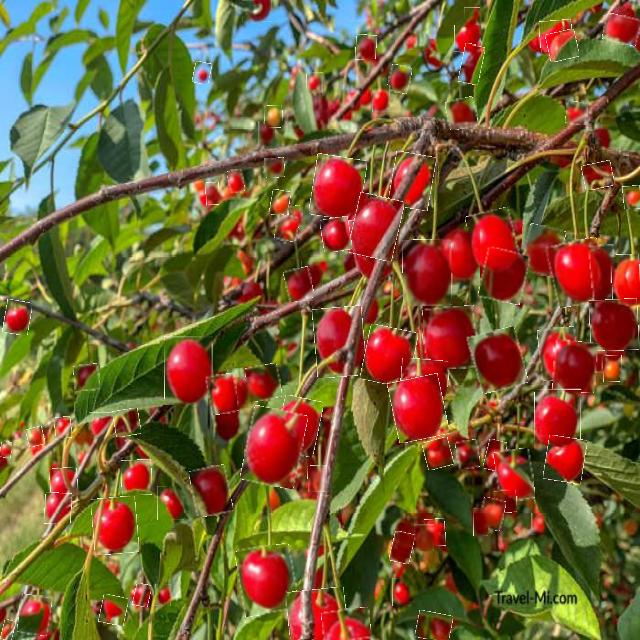cherry: (244, 408, 304, 487), (237, 546, 297, 616), (549, 239, 606, 306), (390, 376, 447, 441), (314, 306, 365, 377), (311, 155, 365, 220), (469, 209, 520, 277), (423, 306, 478, 369), (350, 194, 401, 259), (165, 336, 213, 405), (472, 329, 525, 391), (362, 326, 416, 386), (403, 240, 451, 306), (287, 588, 346, 640), (535, 389, 581, 450), (589, 298, 639, 351), (276, 397, 321, 455), (480, 249, 528, 303), (92, 498, 138, 554), (390, 152, 434, 210), (442, 227, 480, 285), (553, 342, 596, 392), (522, 225, 564, 276), (539, 327, 578, 380), (191, 465, 231, 516), (495, 449, 534, 501), (544, 436, 586, 483), (611, 254, 640, 311), (322, 608, 370, 640), (591, 244, 617, 300), (401, 359, 448, 387), (19, 595, 51, 635), (247, 365, 281, 401), (208, 374, 237, 414), (603, 15, 640, 45), (540, 19, 572, 52), (321, 217, 351, 252), (122, 460, 152, 495), (416, 611, 452, 640), (547, 30, 578, 61), (460, 45, 484, 85), (4, 300, 31, 335), (447, 98, 477, 129), (50, 468, 77, 502), (157, 486, 184, 520), (285, 268, 312, 301), (44, 493, 72, 524), (424, 439, 452, 469), (582, 162, 613, 189), (100, 595, 127, 625), (480, 498, 504, 530), (390, 532, 414, 564), (454, 26, 481, 54), (113, 409, 140, 437), (484, 440, 506, 472), (74, 364, 100, 391), (456, 440, 479, 469), (242, 0, 272, 22), (388, 65, 411, 93), (301, 261, 323, 289), (232, 377, 252, 407), (275, 215, 298, 241), (424, 519, 446, 546), (596, 122, 616, 150), (89, 412, 113, 435), (414, 524, 434, 551), (392, 578, 411, 606), (372, 85, 390, 114), (494, 491, 517, 513), (566, 102, 588, 125), (270, 190, 290, 215), (356, 35, 376, 60), (603, 356, 622, 382), (308, 466, 327, 492), (622, 185, 640, 209), (473, 508, 488, 536), (258, 121, 275, 145), (464, 7, 480, 32), (265, 106, 283, 128), (228, 169, 244, 193), (264, 158, 284, 177), (54, 417, 72, 438), (193, 62, 211, 83), (133, 584, 150, 606), (27, 427, 45, 447), (591, 351, 607, 373), (155, 584, 171, 606), (307, 72, 323, 93), (531, 513, 546, 535), (289, 206, 303, 227), (206, 183, 219, 205), (1, 619, 14, 640), (0, 441, 11, 458), (360, 91, 368, 105)
